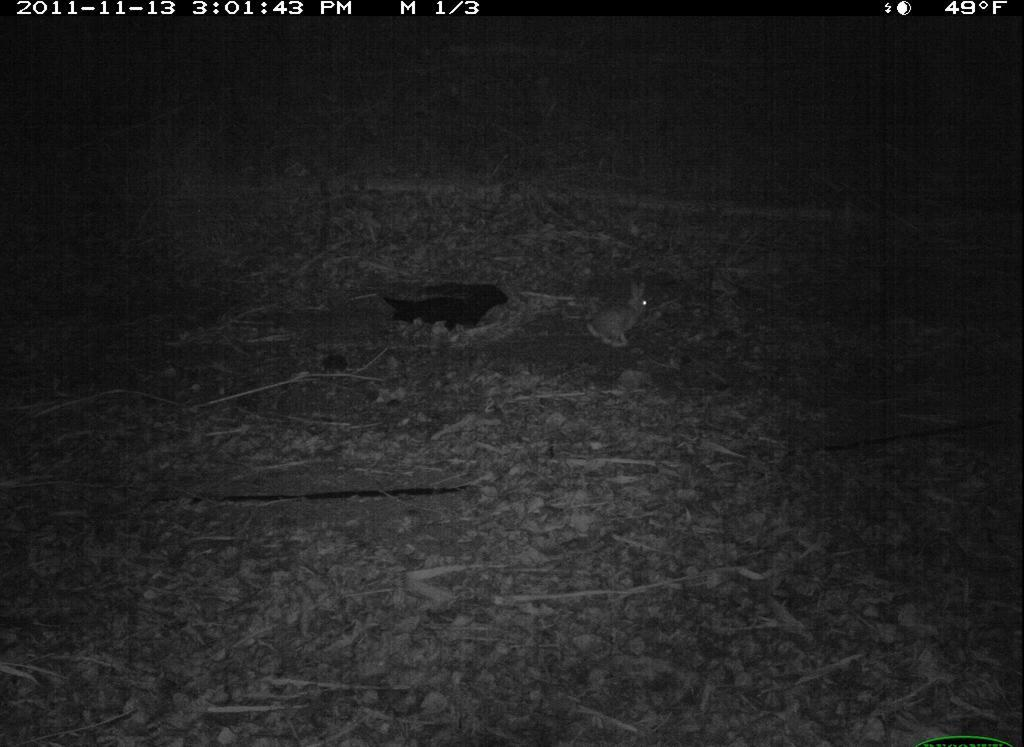rabbit: (579, 272, 657, 356)
